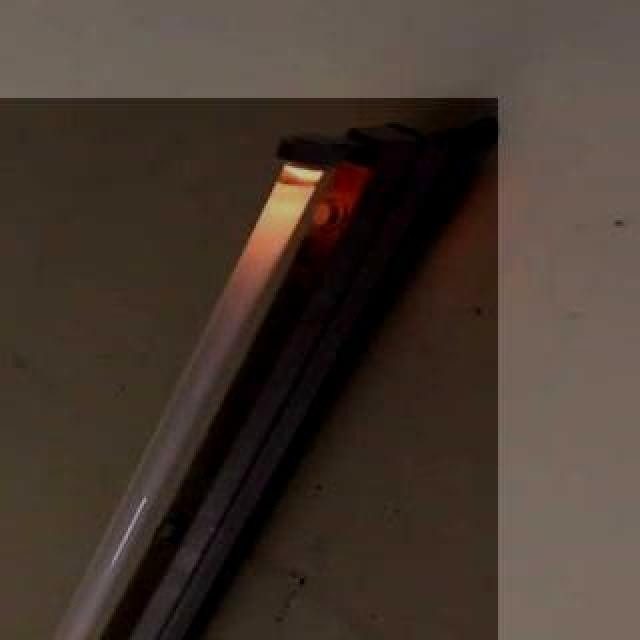fluorescent tube: (0, 118, 420, 640)
